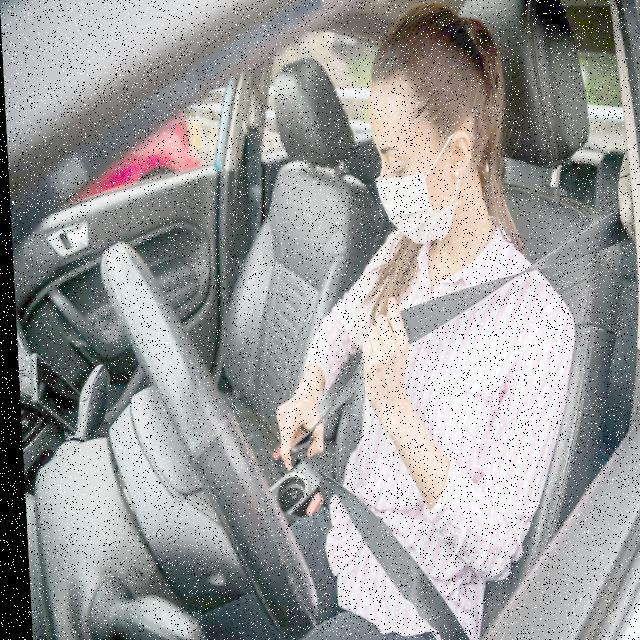seatbelt: (309, 246, 517, 640)
